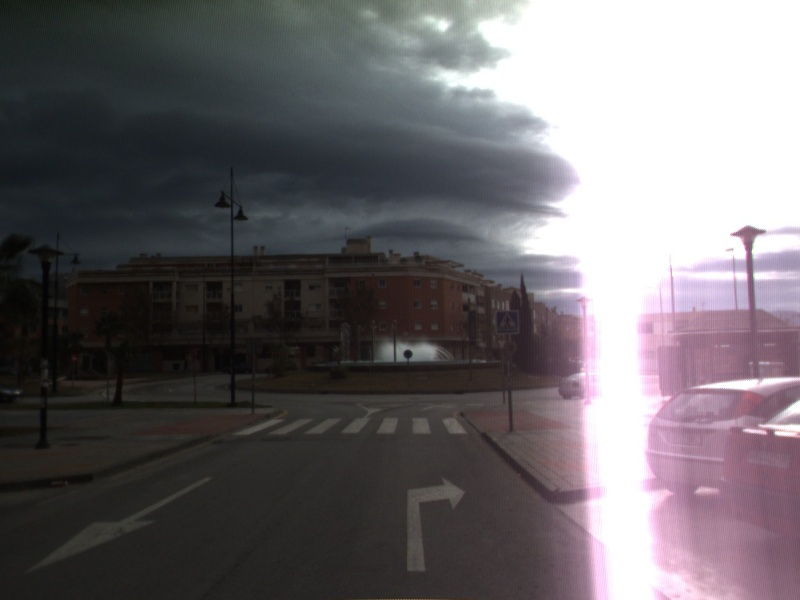RIGHT: (403, 475, 468, 574)
